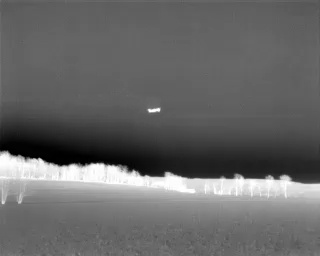DRONE: (143, 102, 165, 119)
